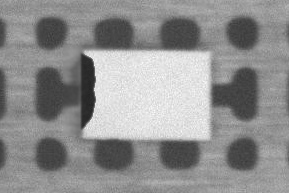DIE_BROKEN: (117, 33, 147, 87)
